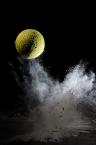tennis ball: (13, 27, 45, 59)
